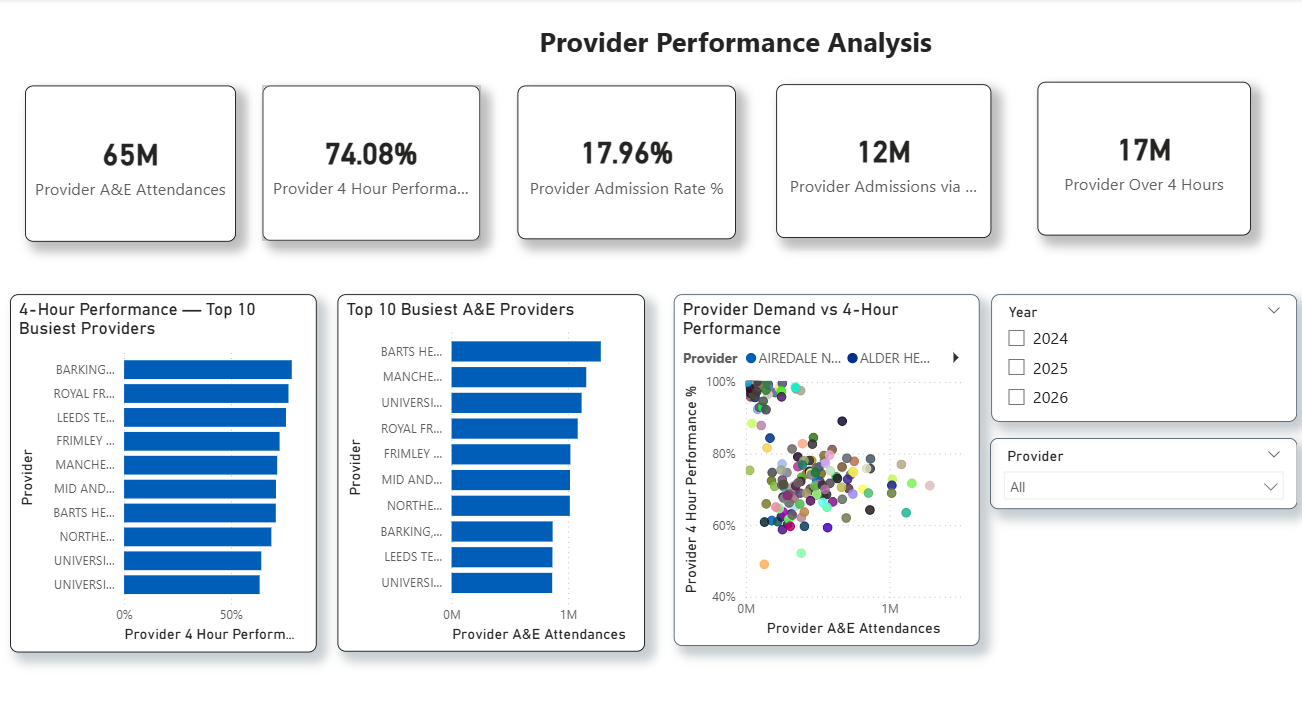

The page's visual inventory and layout, read from the dashboard file:
{"tool":"powerbi","page":{"name":"Provider Performance","canvas":[1280,720],"ordinal":1},"visuals":[{"type":"card","fields":{"Values":["public ae_provider_month.Provider A&E Attendances"]},"box":[24.5,85.6,206.7,152.9],"z":0},{"type":"card","fields":{"Values":["public ae_provider_month.Provider Over 4 Hours"]},"box":[1015,81.9,209.1,150.4],"z":1000},{"type":"card","fields":{"Values":["public ae_provider_month.Provider 4 Hour Performance %"]},"box":[256.8,85.6,212.8,151.6],"z":2000},{"type":"card","fields":{"Values":["public ae_provider_month.Provider Admissions via A&E"]},"box":[759.4,84.4,210.3,150.4],"z":3000},{"type":"card","fields":{"Values":["public ae_provider_month.Provider Admission Rate %"]},"box":[506.3,85.6,214,150.4],"z":4000},{"type":"slicer","fields":{"Values":["public provider_dimension.latest_org_name"]},"box":[968.5,430.4,300.8,69.7],"z":5000},{"type":"clusteredBarChart","title":"Top 10 Busiest A&E Providers","fields":{"Category":["public provider_dimension.latest_org_name"],"Y":["public ae_provider_month.Provider A&E Attendances"]},"box":[330.2,289.8,300.8,349.7],"z":6000},{"type":"clusteredBarChart","title":"4-Hour Performance — Top 10 Busiest Providers","fields":{"Category":["public provider_dimension.latest_org_name"],"Y":["public ae_provider_month.Provider 4 Hour Performance %"]},"box":[10,290,300,350],"z":7000},{"type":"scatterChart","title":"Provider Demand vs 4-Hour Performance","fields":{"Series":["public provider_dimension.latest_org_name"],"X":["public ae_provider_month.Provider A&E Attendances"],"Y":["public ae_provider_month.Provider 4 Hour Performance %"]},"box":[659.1,289.8,299.6,343.6],"z":8000},{"type":"slicer","fields":{"Values":["DateTable.Year"]},"box":[969.7,289.8,299.6,124.7],"z":9000},{"type":"textbox","box":[470,20,500,48.9],"z":11000}]}

Visuals, with their boxes in screenshot pixels (x1, y1, x2, y2), scaled from the page's 1280x720 canvas onto the 1302x721 screenshot:
card - public ae_provider_month.Provider A&E Attendances: Rect(25, 86, 235, 239)
card - public ae_provider_month.Provider Over 4 Hours: Rect(1032, 82, 1245, 233)
card - public ae_provider_month.Provider 4 Hour Performance %: Rect(261, 86, 478, 238)
card - public ae_provider_month.Provider Admissions via A&E: Rect(772, 85, 986, 235)
card - public ae_provider_month.Provider Admission Rate %: Rect(515, 86, 733, 236)
slicer - public provider_dimension.latest_org_name: Rect(985, 431, 1291, 501)
"Top 10 Busiest A&E Providers" clusteredBarChart: Rect(336, 290, 642, 640)
"4-Hour Performance — Top 10 Busiest Providers" clusteredBarChart: Rect(10, 290, 315, 641)
"Provider Demand vs 4-Hour Performance" scatterChart: Rect(670, 290, 975, 634)
slicer - DateTable.Year: Rect(986, 290, 1291, 415)
textbox: Rect(478, 20, 987, 69)
